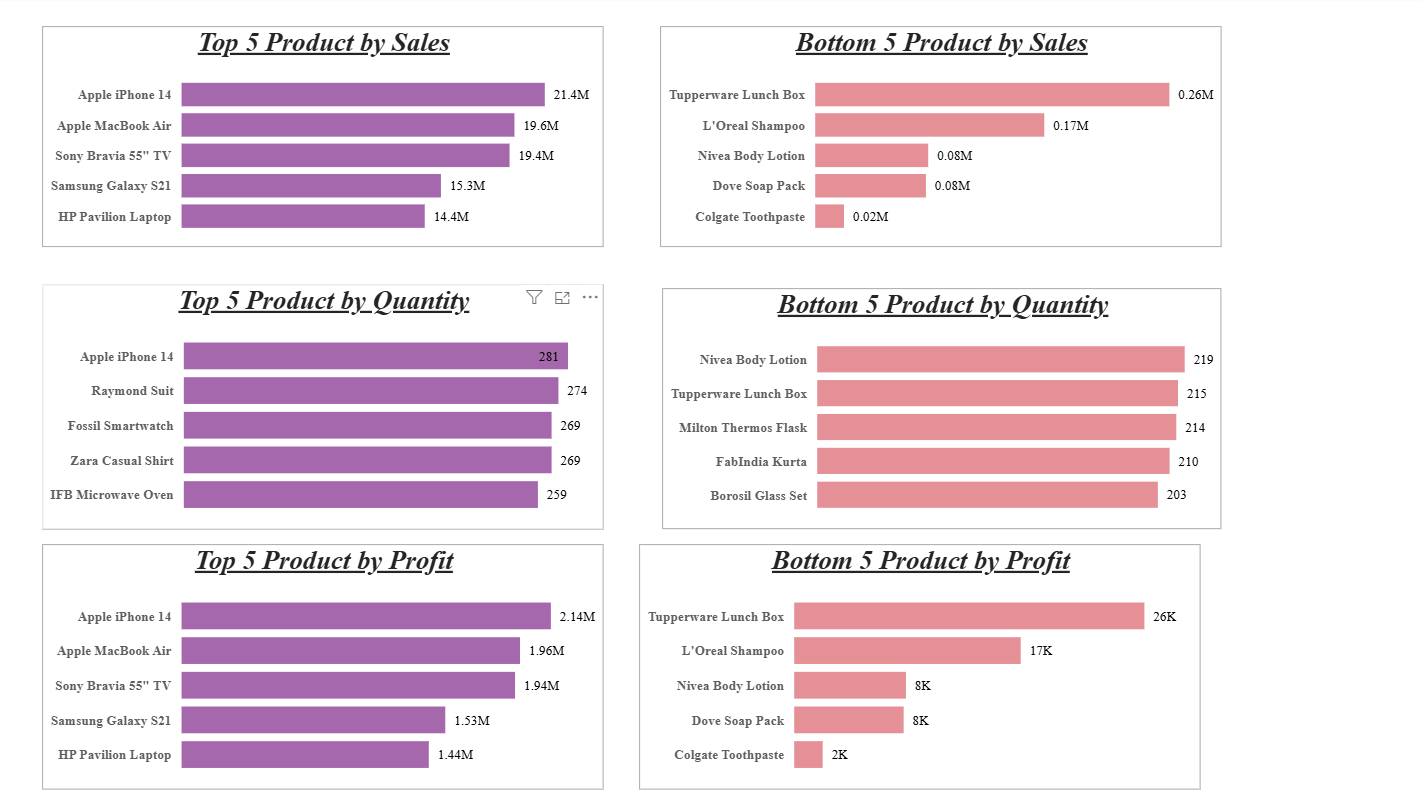

This screenshot's page, from the dashboard's own definition file:
{"tool":"powerbi","page":{"name":"Top/Bottom 5 Analysis","canvas":[1280,720],"ordinal":1},"visuals":[{"type":"barChart","title":"Top 5 Product by Sales","fields":{"Category":["Dim Product.Product Name"],"Y":["Sum(Fact Table.Net Sales)"]},"box":[41.8,26.3,502.9,198.4],"z":0},{"type":"barChart","title":"Bottom 5 Product by Sales","fields":{"Category":["Dim Product.Product Name"],"Y":["Sum(Fact Table.Net Sales)"]},"box":[595.3,26.3,502.9,198.4],"z":1000},{"type":"barChart","title":"Top 5 Product by Quantity","fields":{"Category":["Dim Product.Product Name"],"Y":["Sum(Fact Table.Units Sold)"]},"box":[41.8,256.8,502.9,219.8],"z":2000},{"type":"barChart","title":"Bottom 5 Product by Quantity","fields":{"Category":["Dim Product.Product Name"],"Y":["Sum(Fact Table.Units Sold)"]},"box":[597.3,260.6,501.5,215.8],"z":3000},{"type":"barChart","title":"Top 5 Product by Profit","fields":{"Category":["Dim Product.Product Name"],"Y":["Sum(Fact Table.Profit)"]},"box":[41.8,490.2,502.9,219.8],"z":4000},{"type":"barChart","title":"Bottom 5 Product by Profit","fields":{"Category":["Dim Product.Product Name"],"Y":["Sum(Fact Table.Profit)"]},"box":[576.8,490.2,502.9,219.8],"z":5000}]}

Visuals, with their boxes in screenshot pixels (x1, y1, x2, y2), scaled from the page's 1280x720 canvas onto the 1422x796 screenshot:
"Top 5 Product by Sales" barChart: BBox(46, 29, 605, 248)
"Bottom 5 Product by Sales" barChart: BBox(661, 29, 1220, 248)
"Top 5 Product by Quantity" barChart: BBox(46, 284, 605, 527)
"Bottom 5 Product by Quantity" barChart: BBox(664, 288, 1221, 527)
"Top 5 Product by Profit" barChart: BBox(46, 542, 605, 785)
"Bottom 5 Product by Profit" barChart: BBox(641, 542, 1199, 785)
